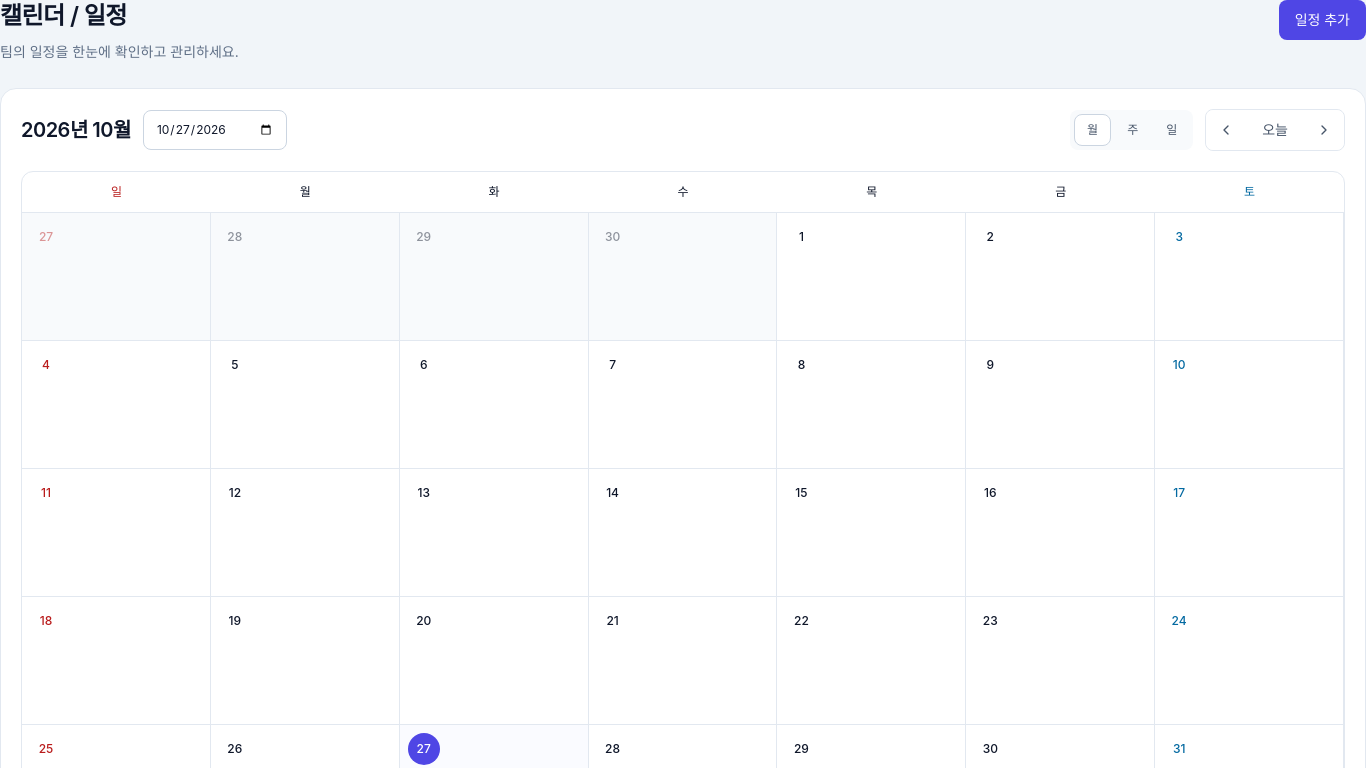
Test: preserves the original event when a new event conflicts
Type "2026-09-14" into the date field named "기준 날짜". click: (215, 130)
box: [143,110,287,150]
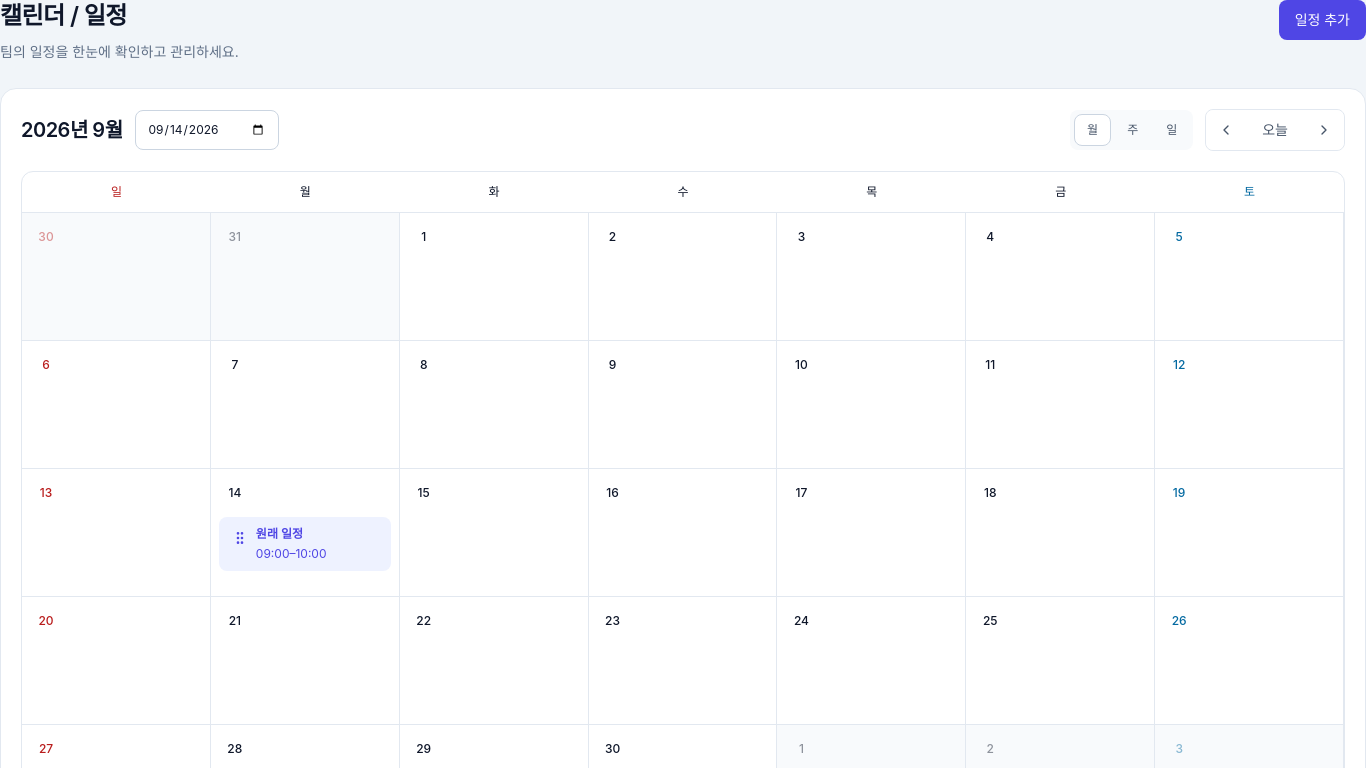
Click the button "일정 추가". click: (1322, 20)
box: [1279,0,1365,40]
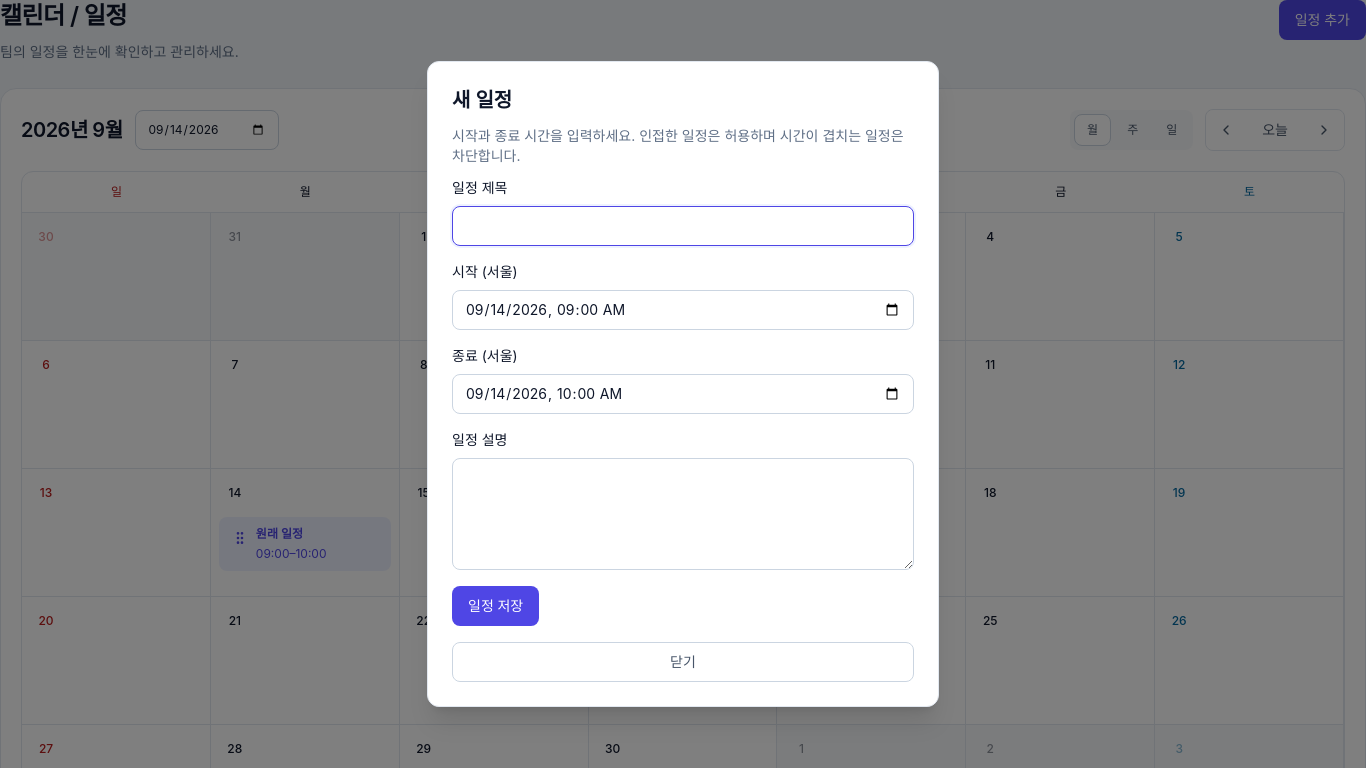
Type "겹치는 일정" into the field labelled "일정 제목". click: (683, 226)
box: [452,206,914,246]
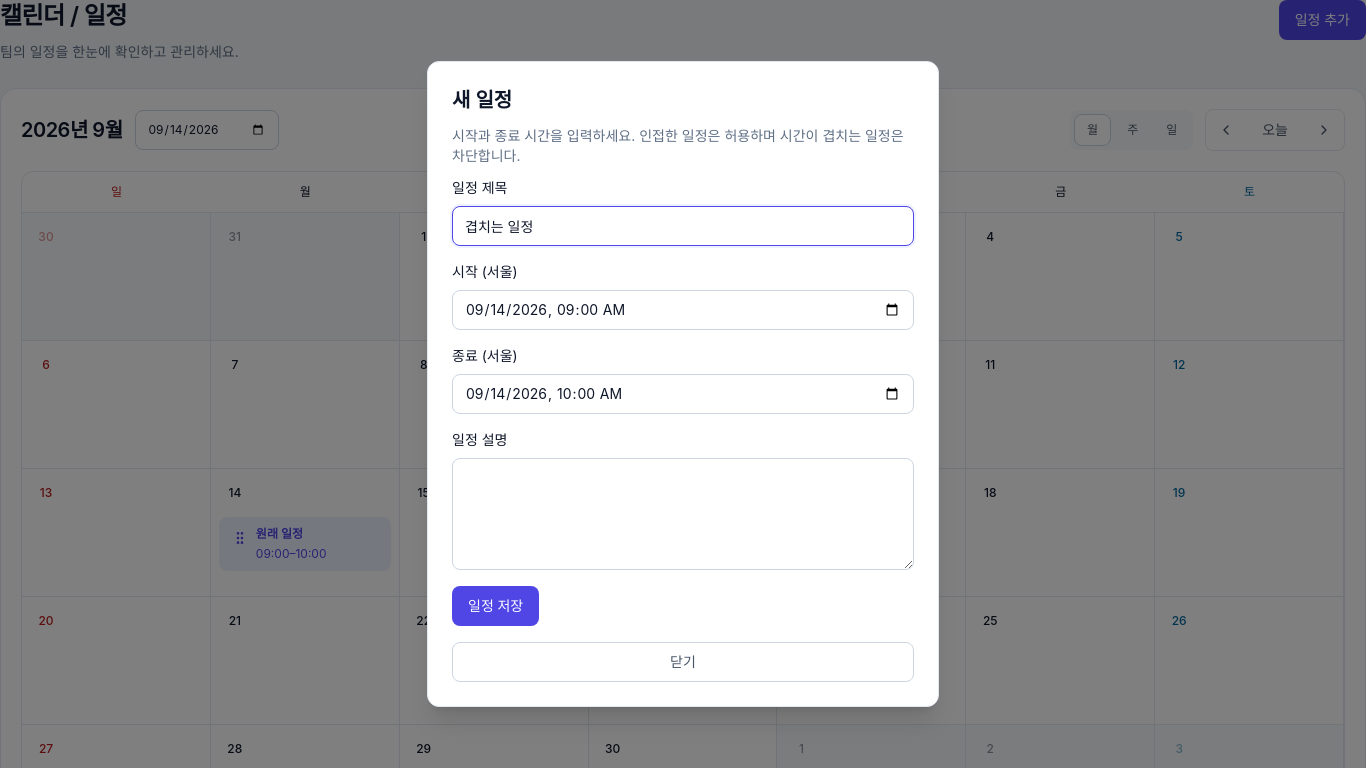
Click the button "일정 저장". click: (496, 606)
box: [452,586,539,626]
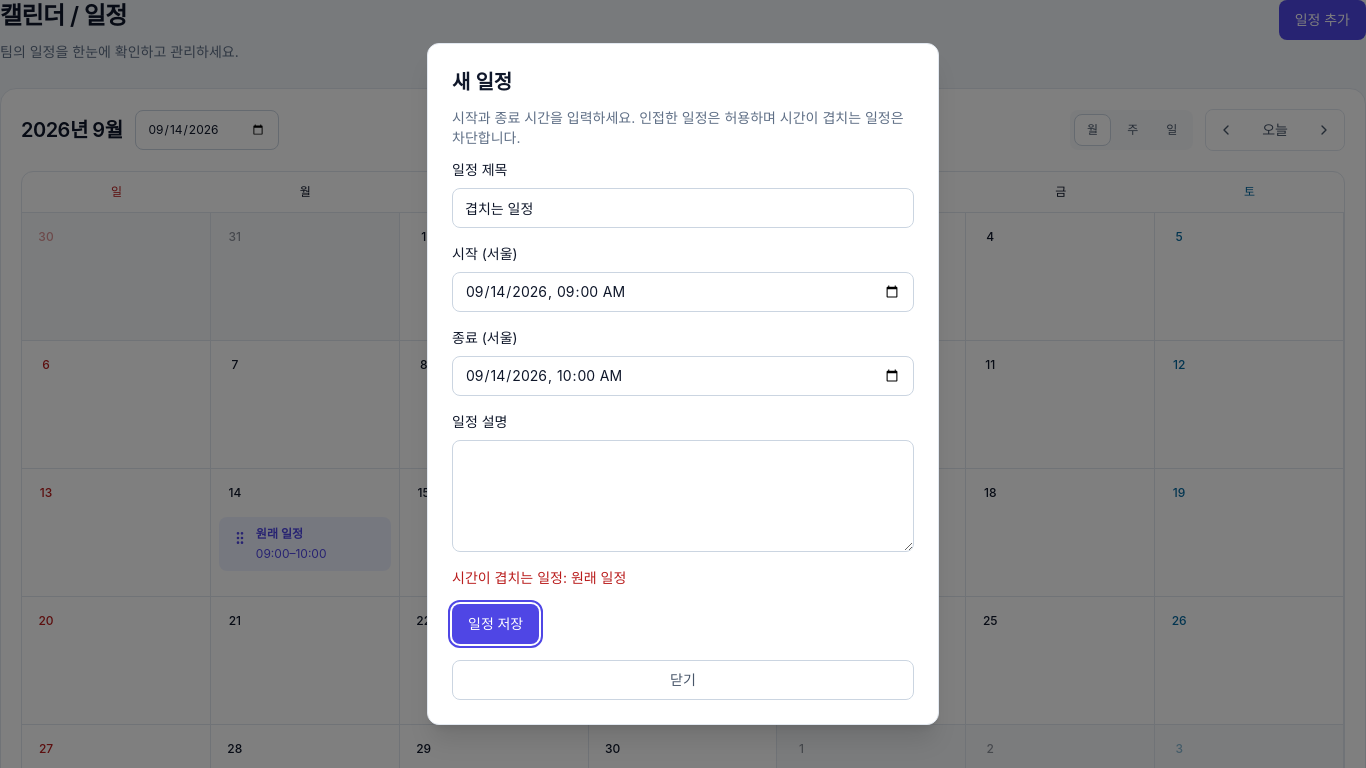
Expected: the message reads "시간이 겹치는 일정: 원래 일정", [452,569,626,586]
